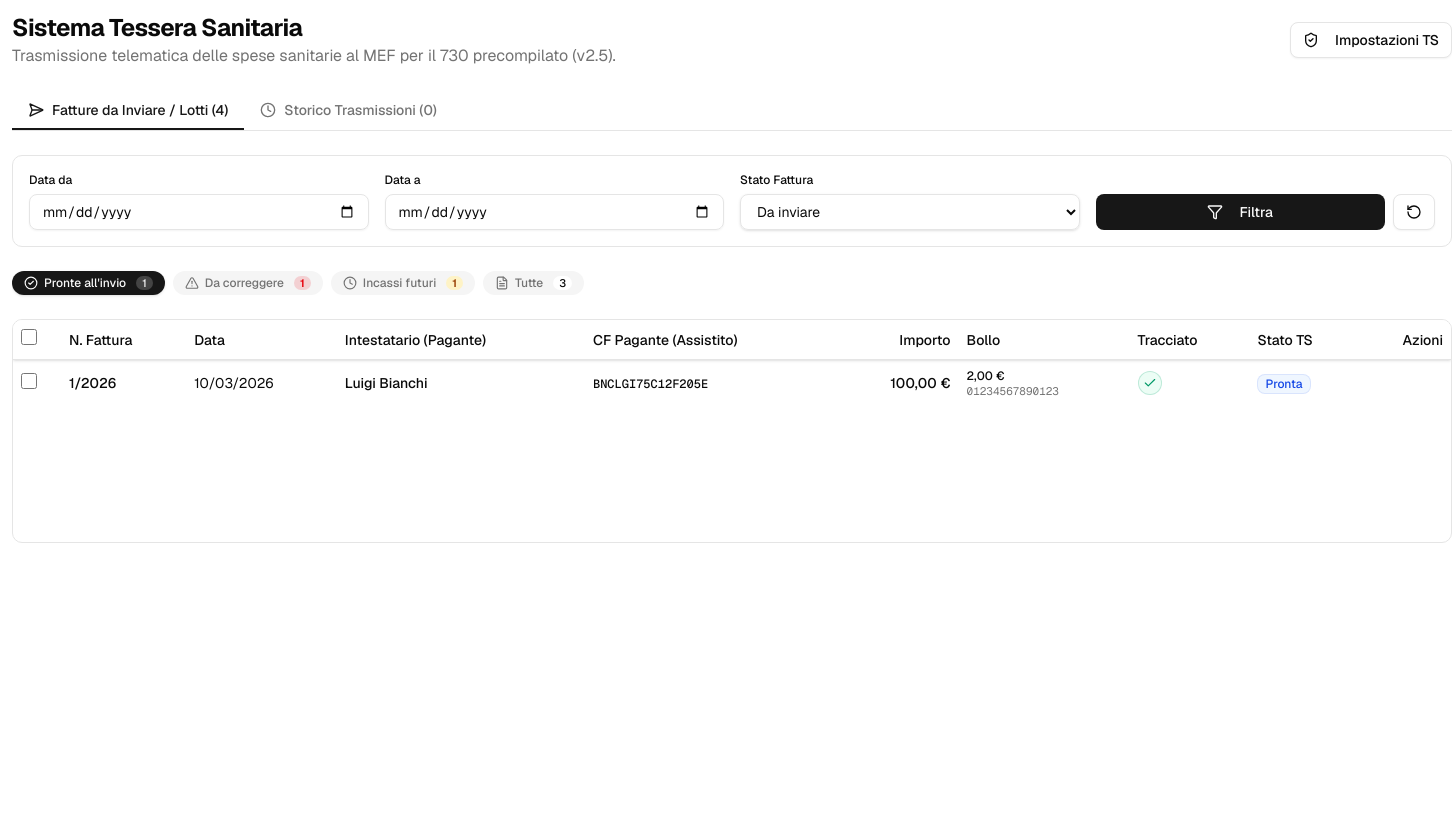
Scenario: SistemaTsManager › selezione singola e calcolo totale importo nell'action bar
Note: Seleziona la prima fattura (id: 1, 100 €)
Click the checkbox named "Seleziona fattura 1".
click(29, 381)  # box [21,373,37,389]
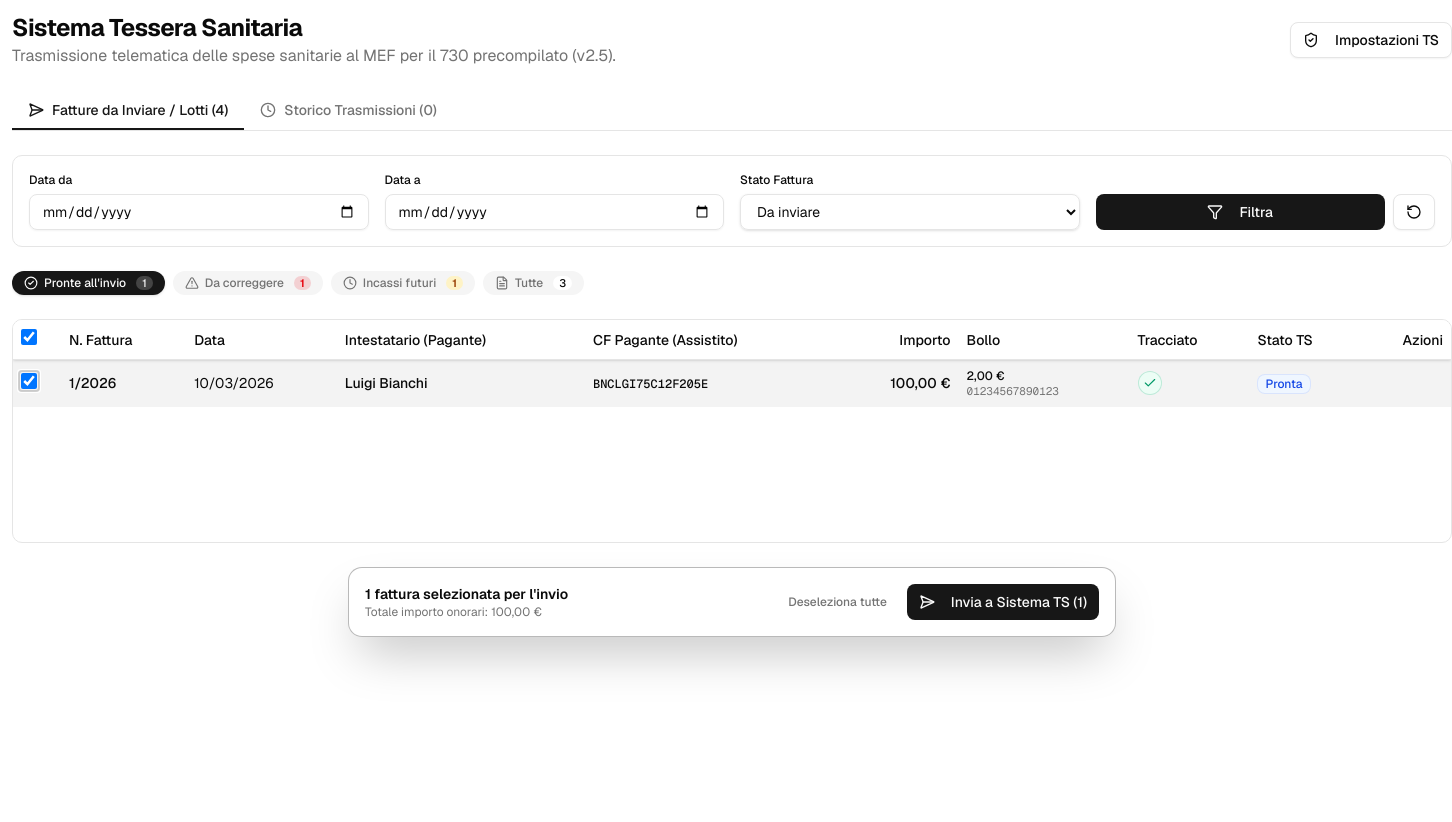
Check: the text "1 fattura selezionata per l'invio" is shown, box [365,584,568,604]
Check: the text "Totale importo onorari: 100,00 €" is shown, box [365,604,568,620]
Check: the button "Invia a Sistema TS (1)" is enabled, box [907,584,1099,620]
